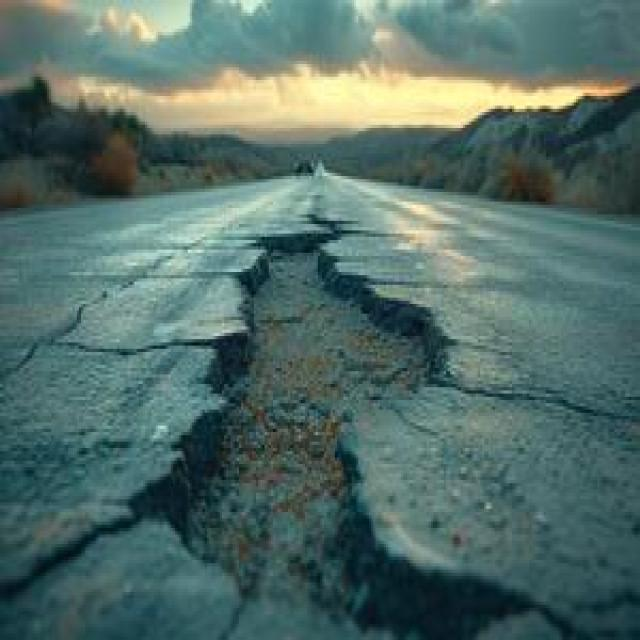road collapse: (2, 160, 640, 640)
